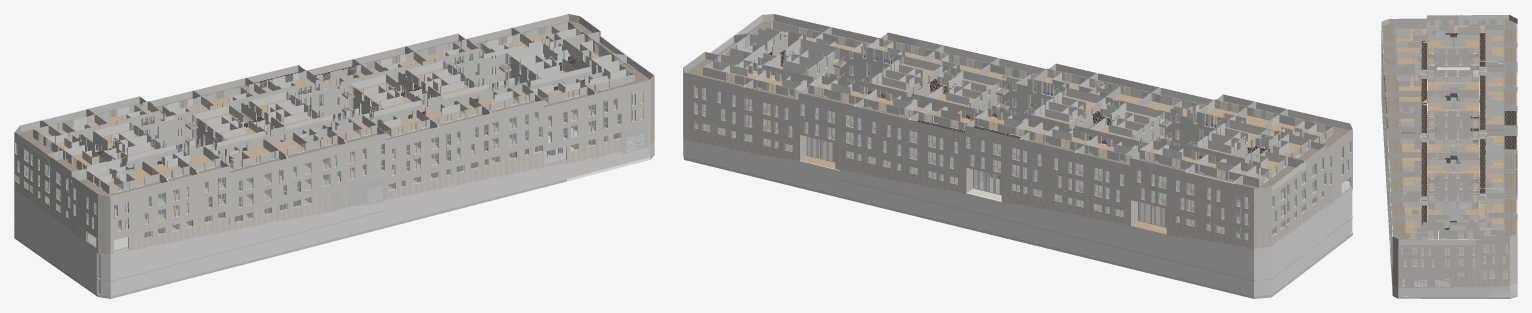
Rendered from apolo_corte_atico.glb.
The picture shows the model from 3 angles, left to right: view 1: azimuth 30°, elevation 25°; view 2: azimuth 150°, elevation 25°; view 3: azimuth 270°, elevation 25°; orthographic projection. The views are drawn at different scales.
Visible parts, largest first — view 1: envolvente__T2__APOLO V6 | Monocapa blanco roto 5pct calido, envolvente__T2__APOLO V6 | Pintura interior blanca mate, envolvente__T2__APOLO V6 | Travertino marfil veta vertical, envolvente__T2__APOLO V3 | Vinilo roble natural claro, envolvente__T2__APOLO | Tarima exterior greige, carpinteria__T5__APOLO V6 | Aluminio plata grata, carpinteria__T3__APOLO V6 | Aluminio plata grata, carpinteria__T1__APOLO V6 | Aluminio plata grata, envolvente__T2__APOLO V6 | Aluminio plata grata, carpinteria__T0__APOLO V6 | Aluminio plata grata, carpinteria__T7__APOLO V6 | Aluminio plata grata, envolvente__T3__APOLO V6 | Aluminio plata grata (+8 smaller); view 2: envolvente__T2__APOLO V6 | Monocapa blanco roto 5pct calido, envolvente__T2__APOLO V6 | Pintura interior blanca mate, envolvente__T2__APOLO V6 | Travertino marfil veta vertical, envolvente__T2__APOLO V3 | Vinilo roble natural claro, envolvente__T2__APOLO | Tarima exterior greige, carpinteria__T0__APOLO V6 | Aluminio plata grata, carpinteria__T2__APOLO V6 | Aluminio plata grata, carpinteria__T4__APOLO V6 | Aluminio plata grata, envolvente__T2__APOLO V6 | Aluminio plata grata, carpinteria__T6__APOLO V6 | Aluminio plata grata, envolvente__T4__APOLO V6 | Aluminio plata grata, envolvente__T0__APOLO V3 | Vinilo roble natural claro (+5 smaller); view 3: envolvente__T2__APOLO V6 | Monocapa blanco roto 5pct calido, envolvente__T2__APOLO V6 | Pintura interior blanca mate, envolvente__T2__APOLO V3 | Vinilo roble natural claro, envolvente__T2__APOLO | Tarima exterior greige, envolvente__T2__Tile_Interior_05_1K, envolvente__T2__APOLO V6 | Travertino marfil veta vertical, carpinteria__T6__APOLO V6 | Aluminio plata grata, envolvente__T6__APOLO V3 | Vinilo roble natural claro, envolvente__T7__APOLO V6 | Aluminio plata grata, envolvente__T4__Tile_Interior_05_1K, carpinteria__T0__APOLO V6 | Aluminio plata grata, envolvente__T5__APOLO V3 | Vinilo roble natural claro (+17 smaller).
Boxes of the visible parts, <box> form: envolvente__T2__APOLO V6 | Monocapa blanco roto 5pct calido: <box>14,14,654,298</box>; envolvente__T2__APOLO V6 | Pintura interior blanca mate: <box>14,16,654,296</box>; envolvente__T2__APOLO V6 | Travertino marfil veta vertical: <box>14,120,654,254</box>; envolvente__T2__APOLO V3 | Vinilo roble natural claro: <box>16,46,642,234</box>; envolvente__T2__APOLO | Tarima exterior greige: <box>19,21,649,196</box>; carpinteria__T5__APOLO V6 | Aluminio plata grata: <box>386,93,542,190</box>; carpinteria__T3__APOLO V6 | Aluminio plata grata: <box>229,126,384,222</box>; carpinteria__T1__APOLO V6 | Aluminio plata grata: <box>73,159,225,253</box>; envolvente__T2__APOLO V6 | Aluminio plata grata: <box>141,51,530,154</box>; carpinteria__T0__APOLO V6 | Aluminio plata grata: <box>15,103,161,221</box>; carpinteria__T7__APOLO V6 | Aluminio plata grata: <box>543,65,643,157</box>; envolvente__T3__APOLO V6 | Aluminio plata grata: <box>333,178,384,210</box>; envolvente__T2__APOLO V6 | Monocapa blanco roto 5pct calido: <box>683,14,1352,298</box>; envolvente__T2__APOLO V6 | Pintura interior blanca mate: <box>683,14,1352,296</box>; envolvente__T2__APOLO V6 | Travertino marfil veta vertical: <box>683,114,1352,248</box>; envolvente__T2__APOLO V3 | Vinilo roble natural claro: <box>695,52,1350,238</box>; envolvente__T2__APOLO | Tarima exterior greige: <box>686,21,1349,188</box>; carpinteria__T0__APOLO V6 | Aluminio plata grata: <box>1136,120,1326,240</box>; carpinteria__T2__APOLO V6 | Aluminio plata grata: <box>966,89,1164,218</box>; carpinteria__T4__APOLO V6 | Aluminio plata grata: <box>800,57,1001,185</box>; envolvente__T2__APOLO V6 | Aluminio plata grata: <box>813,46,1217,195</box>; carpinteria__T6__APOLO V6 | Aluminio plata grata: <box>694,29,838,151</box>; envolvente__T4__APOLO V6 | Aluminio plata grata: <box>806,55,1009,162</box>; envolvente__T0__APOLO V3 | Vinilo roble natural claro: <box>1137,142,1301,187</box>; envolvente__T2__APOLO V6 | Monocapa blanco roto 5pct calido: <box>1381,15,1517,298</box>; envolvente__T2__APOLO V6 | Pintura interior blanca mate: <box>1381,14,1517,296</box>; envolvente__T2__APOLO V3 | Vinilo roble natural claro: <box>1396,29,1508,277</box>; envolvente__T2__APOLO | Tarima exterior greige: <box>1382,20,1516,239</box>; envolvente__T2__Tile_Interior_05_1K: <box>1421,33,1485,229</box>; envolvente__T2__APOLO V6 | Travertino marfil veta vertical: <box>1381,58,1517,287</box>; carpinteria__T6__APOLO V6 | Aluminio plata grata: <box>1427,196,1508,278</box>; envolvente__T6__APOLO V3 | Vinilo roble natural claro: <box>1404,204,1504,237</box>; envolvente__T7__APOLO V6 | Aluminio plata grata: <box>1392,263,1450,287</box>; envolvente__T4__Tile_Interior_05_1K: <box>1470,111,1517,192</box>; carpinteria__T0__APOLO V6 | Aluminio plata grata: <box>1428,19,1503,77</box>; envolvente__T5__APOLO V3 | Vinilo roble natural claro: <box>1401,143,1420,185</box>.
Size of the model in its own units: 111 by 20.85 by 31.2.
Materials: 30 (9 with a texture image).
